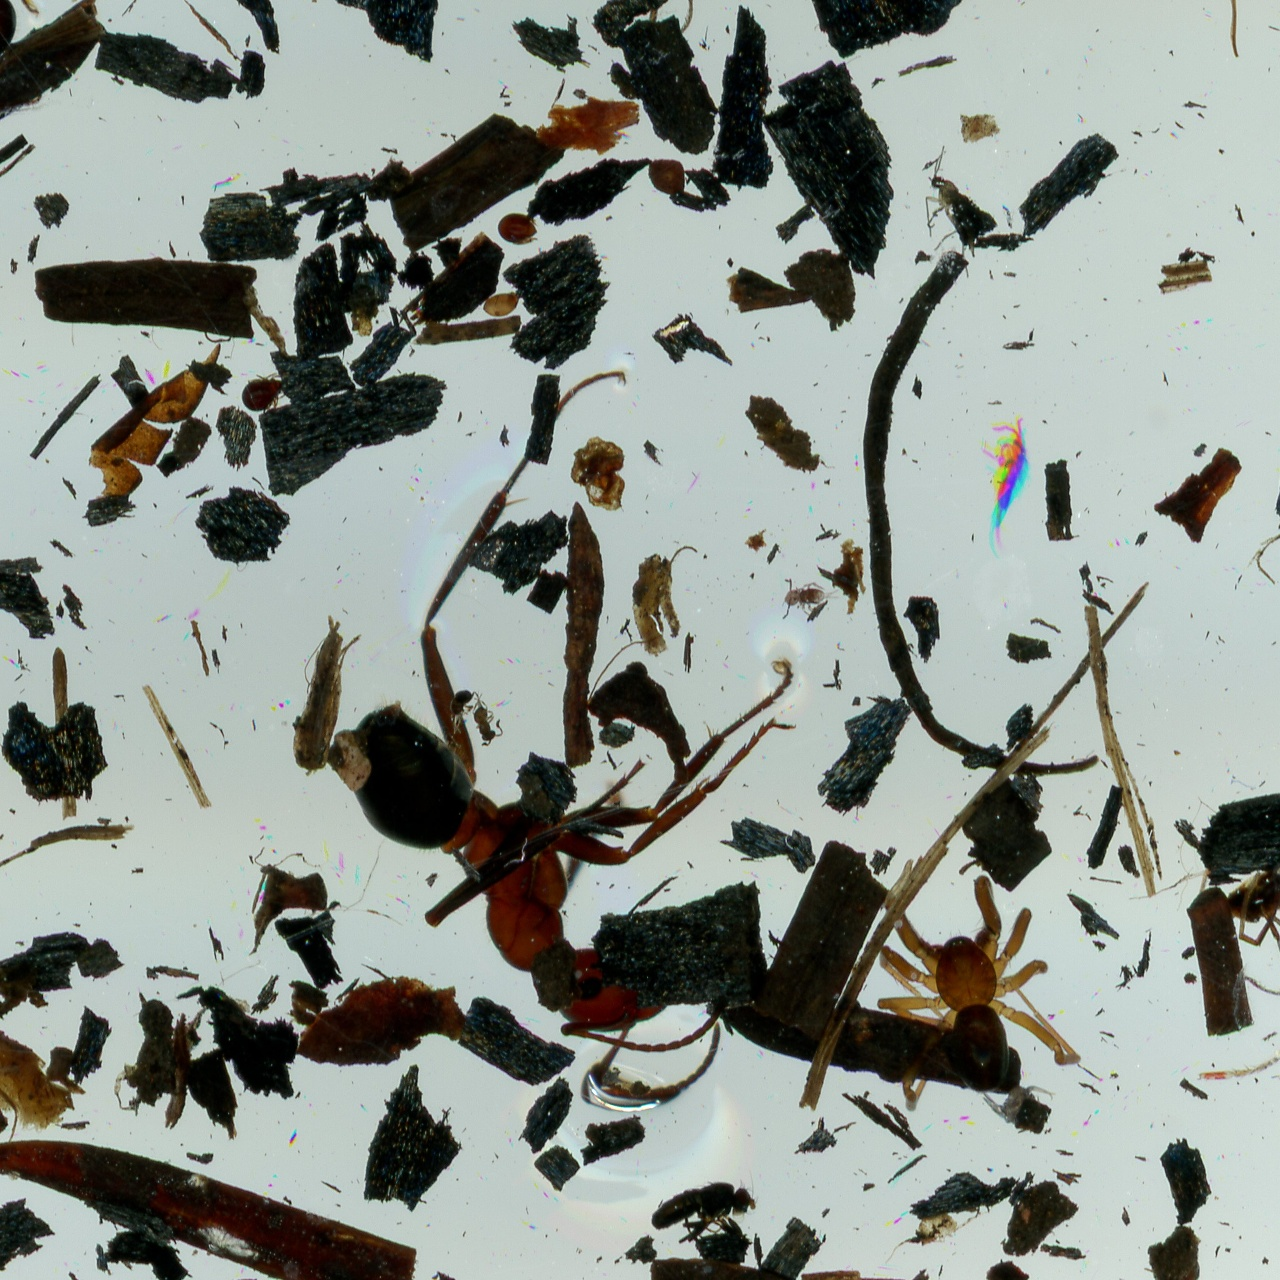arthropod: (329, 358, 799, 1108), (880, 870, 1088, 1112), (1130, 831, 1280, 1085), (635, 1157, 772, 1255), (0, 0, 97, 128), (919, 144, 985, 284), (979, 416, 1040, 561), (979, 1083, 1061, 1131), (778, 572, 843, 622), (467, 690, 508, 749), (239, 372, 288, 416), (497, 210, 544, 247)
